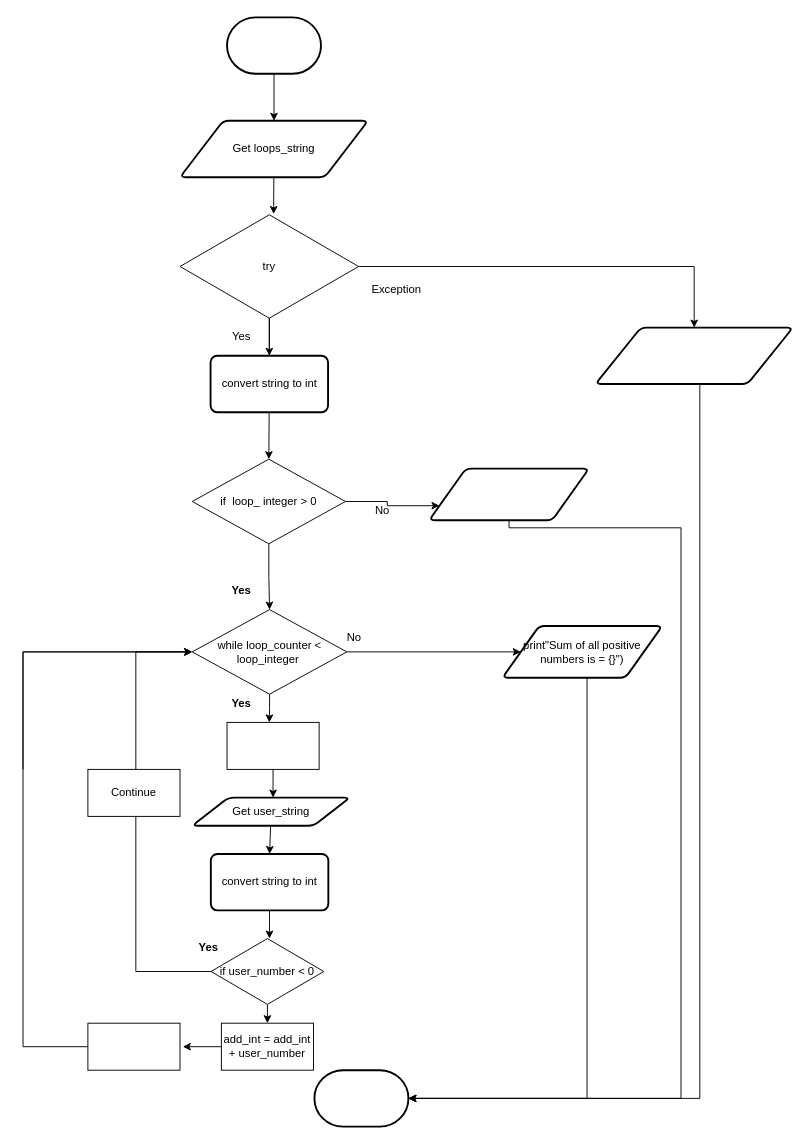
This 810x1143 diagram has some shape labels left out. The shapes that lost their labels are listed below. From the top down, each one's centre as x and y in pixels, then its label:
pixel 273 45: Start
pixel 693 355: print ("That is not a valid input, try again")
pixel 508 494: print("That is not a positive integer")
pixel 272 745: loop_counter = loop_counter + 1
pixel 133 1046: sum = add_int
pixel 361 1098: Stop
